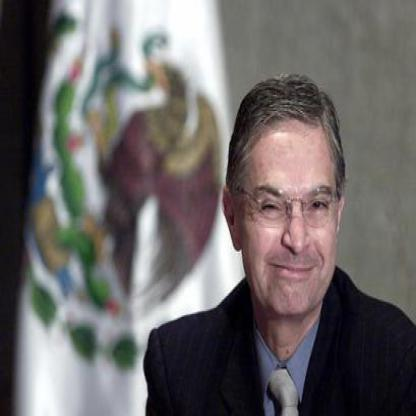face: (238, 89, 344, 323)
